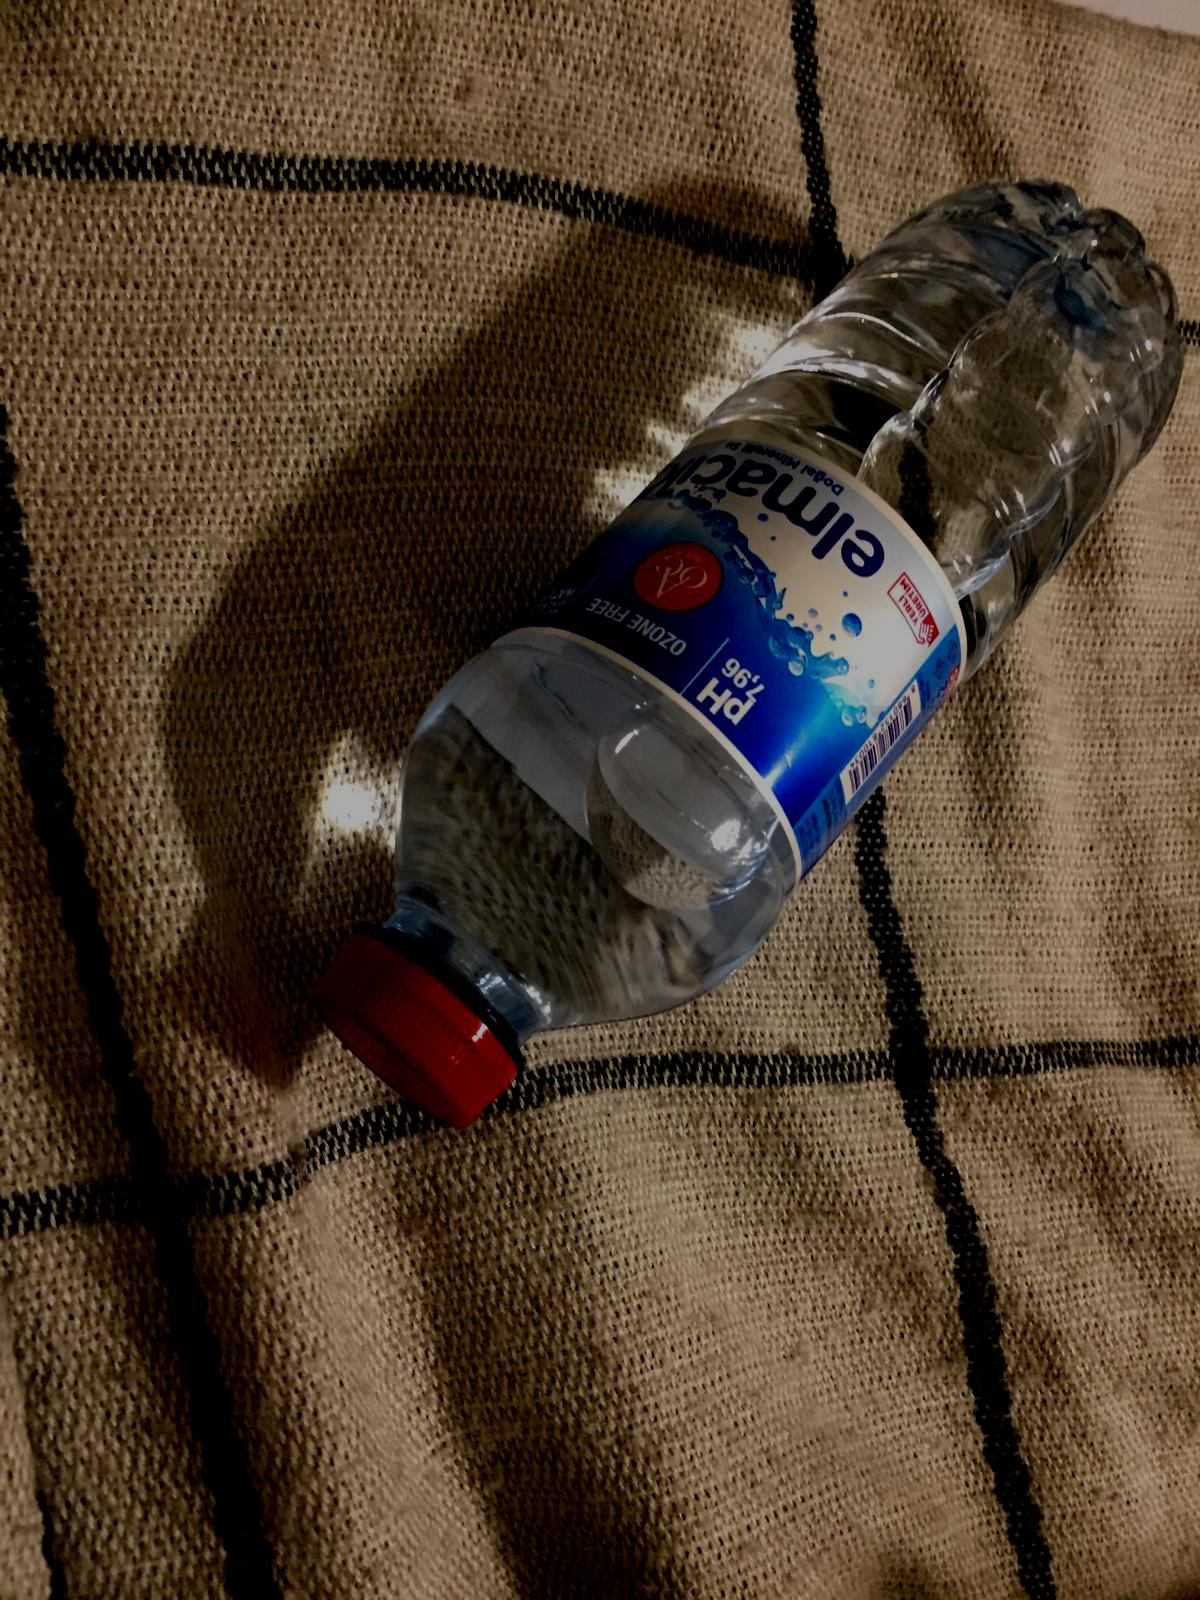bottle: (308, 174, 1178, 1121)
